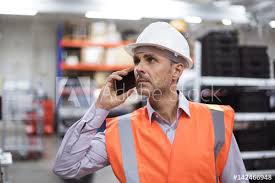Person_wearing_helmet: (122, 20, 197, 72)
